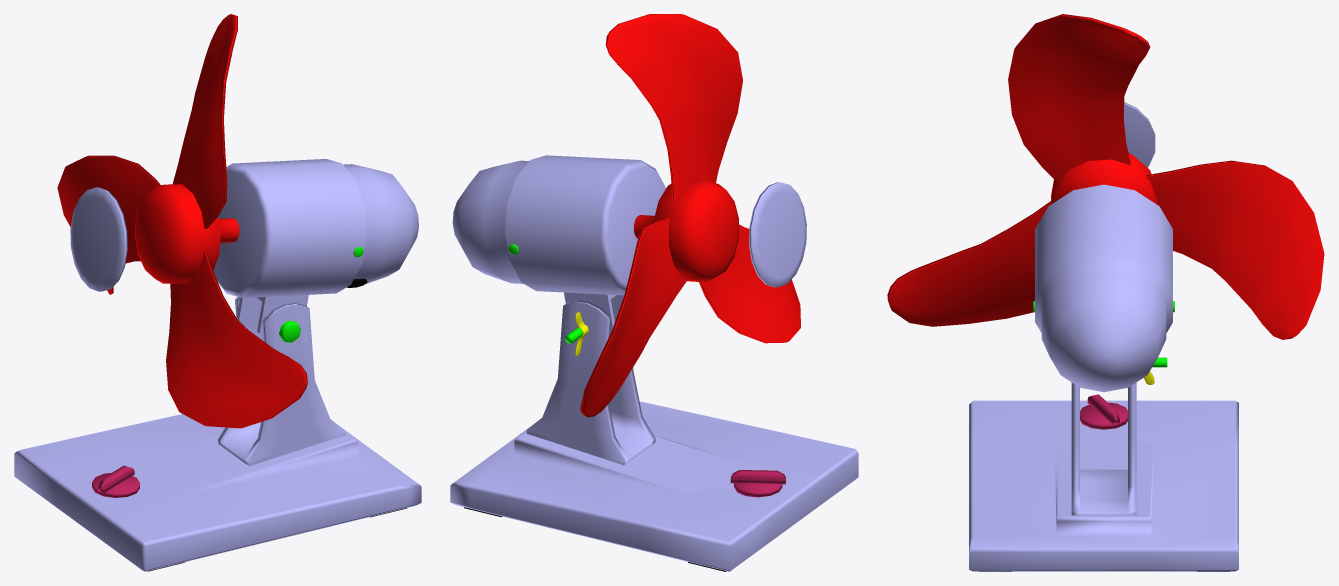
File: ventilador4.fbx
3 views of the same model, side by side, from view 1: azimuth 30°, elevation 25°; view 2: azimuth 150°, elevation 25°; view 3: azimuth 270°, elevation 25° (orthographic). The views are drawn at different scales.
Visible parts, largest first — view 1: polySurface30, polySurface20.001, polySurface27, polySurface39, polySurface33, polySurface42, polySurface22, polySurface23; view 2: polySurface30, polySurface20.001, polySurface27, polySurface39, polySurface33, polySurface42, polySurface23, polySurface22; view 3: polySurface20.001, polySurface30, polySurface27, polySurface39, polySurface33, polySurface22.
Boxes of the visible parts, x1,y1,x2,y2 form: polySurface30: [14, 414, 421, 571]; polySurface20.001: [57, 14, 307, 428]; polySurface27: [213, 159, 418, 297]; polySurface39: [218, 297, 345, 466]; polySurface33: [70, 187, 127, 291]; polySurface42: [237, 295, 308, 336]; polySurface22: [92, 473, 139, 497]; polySurface23: [97, 465, 134, 493]; polySurface30: [450, 401, 858, 571]; polySurface20.001: [580, 14, 800, 417]; polySurface27: [452, 155, 665, 295]; polySurface39: [526, 300, 655, 465]; polySurface33: [749, 182, 806, 287]; polySurface42: [564, 292, 624, 334]; polySurface23: [730, 470, 785, 484]; polySurface22: [734, 482, 782, 497]; polySurface20.001: [887, 14, 1324, 339]; polySurface30: [969, 400, 1238, 571]; polySurface27: [1035, 184, 1172, 392]; polySurface39: [1071, 382, 1136, 515]; polySurface33: [1123, 102, 1155, 167]; polySurface22: [1080, 402, 1127, 429].
Size of the model in its own units: 7.63 by 10.24 by 8.23.
